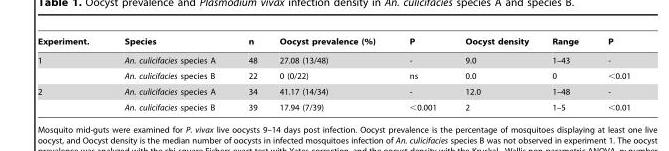table: (37, 36, 629, 111)
table column: (106, 36, 231, 111), (267, 36, 391, 111), (450, 36, 539, 111), (37, 36, 106, 111), (391, 36, 450, 111), (539, 36, 592, 111), (592, 36, 629, 111), (231, 36, 267, 111)
table column header: (37, 36, 629, 50)
table row: (37, 50, 629, 67), (37, 67, 629, 83), (37, 83, 629, 99), (37, 36, 629, 50), (37, 99, 629, 111)
table spanning cell: (37, 50, 106, 83), (37, 83, 106, 111)
